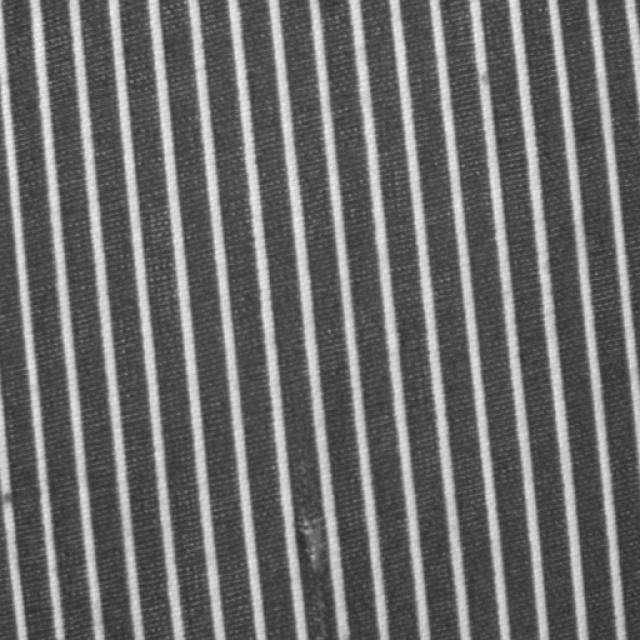Thread-Defect: (295, 509, 338, 639)
